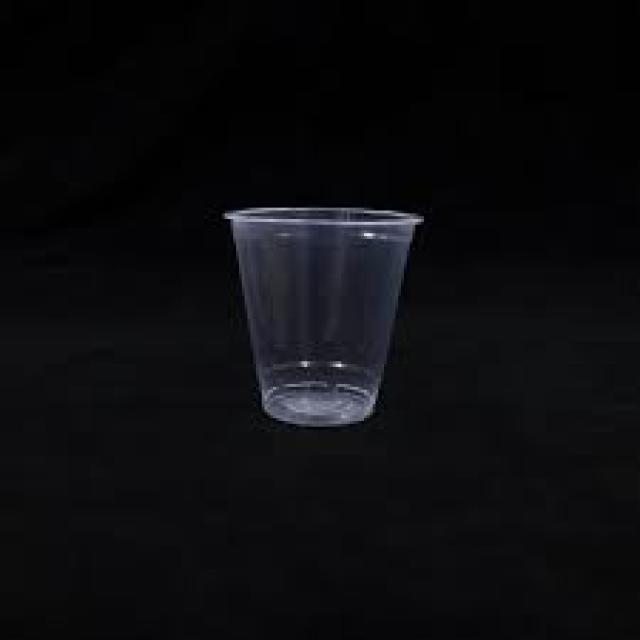plastic: (226, 213, 417, 427)
